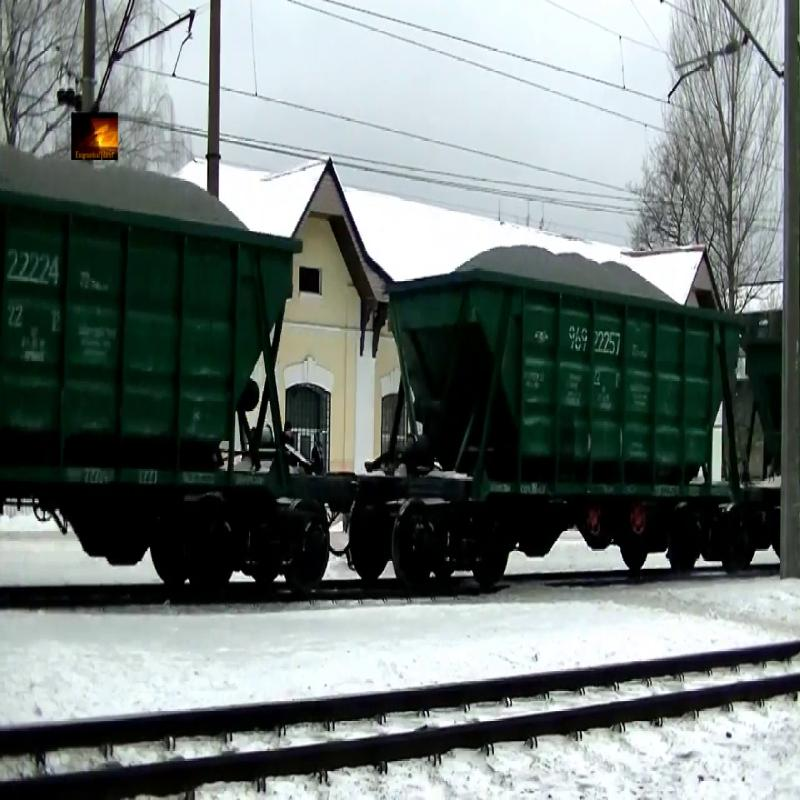train: (371, 220, 752, 601), (1, 157, 297, 588)
